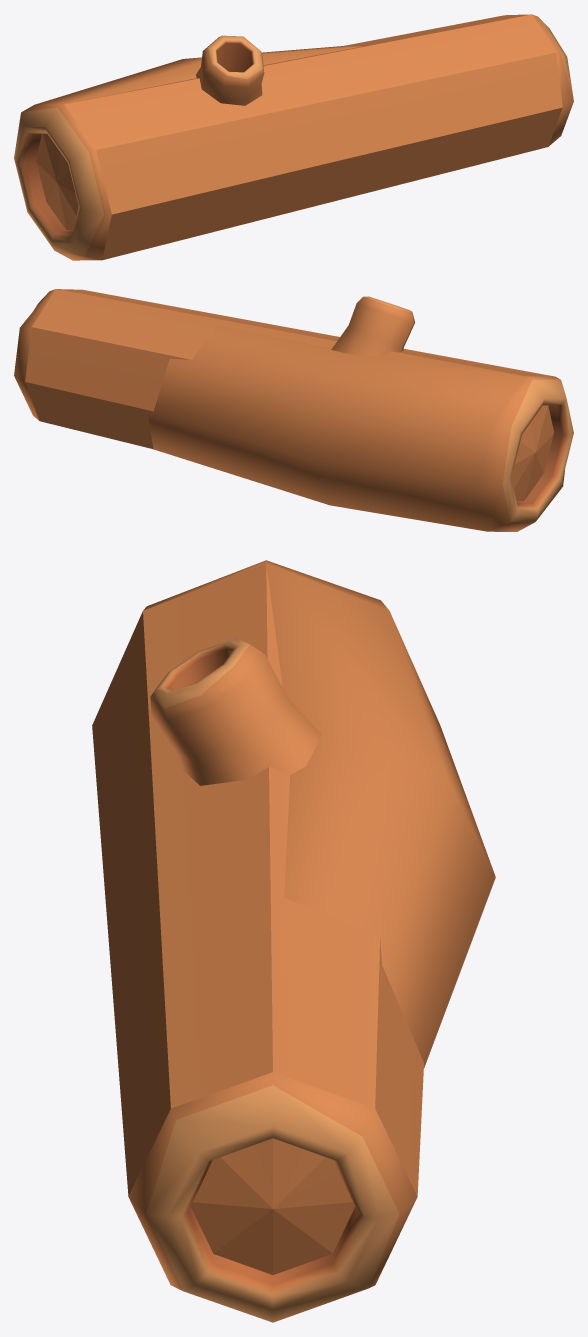
The model's file is tree trunk 01.fbx.
3 views of the same model, one above another, from view 1: azimuth 30°, elevation 25°; view 2: azimuth 150°, elevation 25°; view 3: azimuth 270°, elevation 25° (orthographic). The views are drawn at different scales.
Visible parts, largest first — view 1: tree trunk 01 low, tree trunk 01; view 2: tree trunk 01, tree trunk 01 low; view 3: tree trunk 01 low, tree trunk 01.
Part boxes in pixels (bbox=[...]): tree trunk 01 low: bbox=[36, 14, 562, 260]; tree trunk 01: bbox=[14, 14, 573, 260]; tree trunk 01: bbox=[14, 289, 573, 531]; tree trunk 01 low: bbox=[25, 289, 554, 501]; tree trunk 01 low: bbox=[92, 563, 423, 1274]; tree trunk 01: bbox=[128, 560, 495, 1322].
Bounding box in the file's own units: 231 × 84.19 × 80.2.
1 material, 1 textured.
